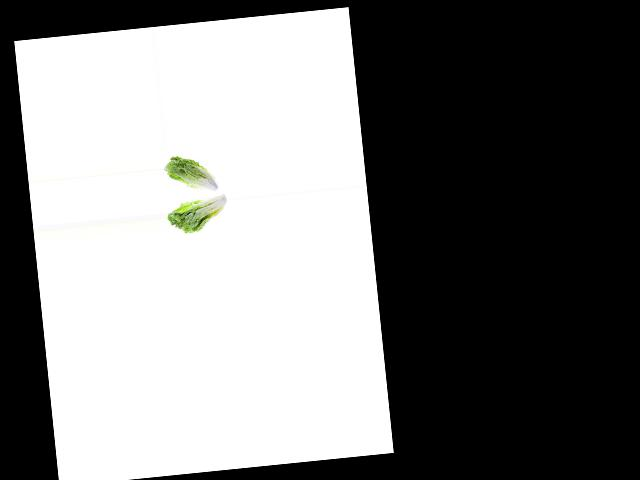lettuce: (163, 150, 224, 196)
